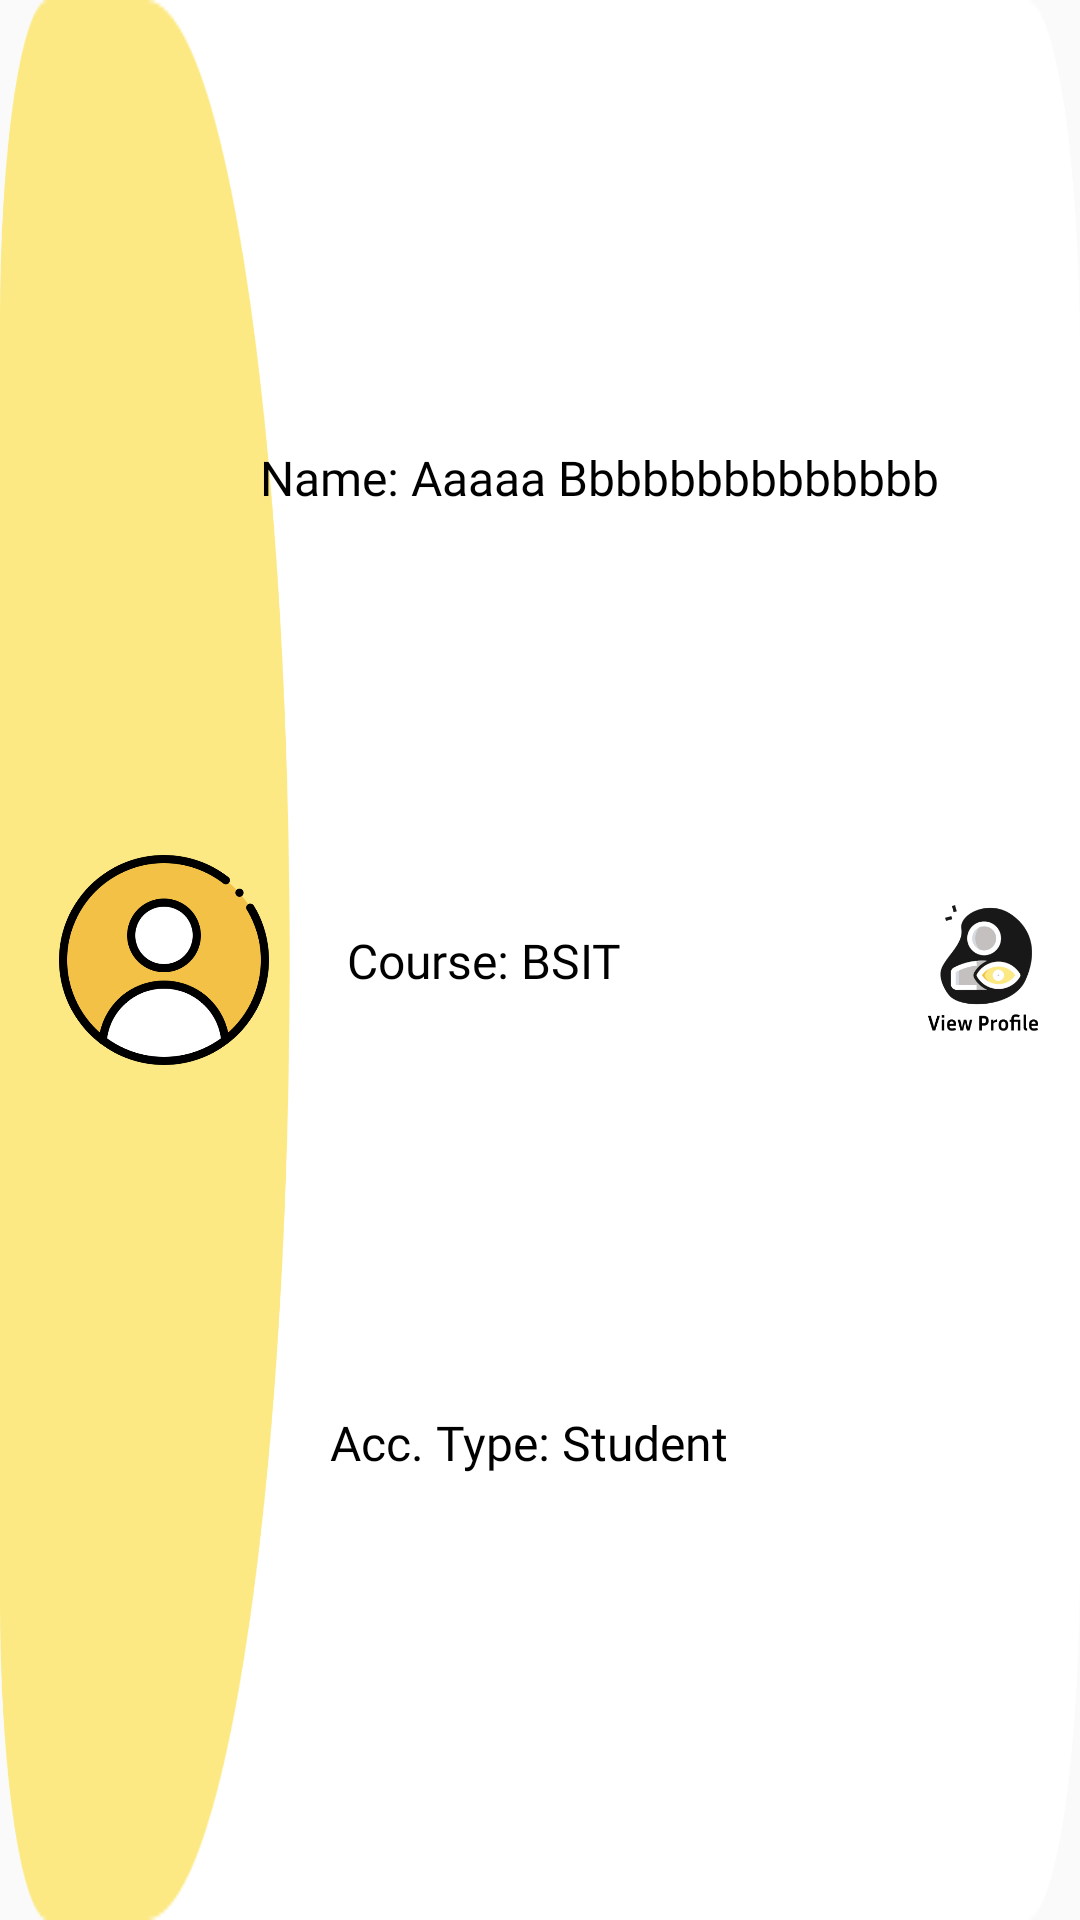

Where to tap for icons on this 1080 × 1920 app screen, as (x=x, y=y):
profile: (x=164, y=960)
